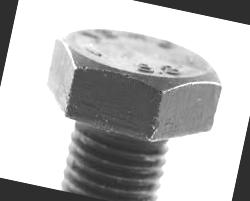hexagonal: (39, 14, 230, 153)
